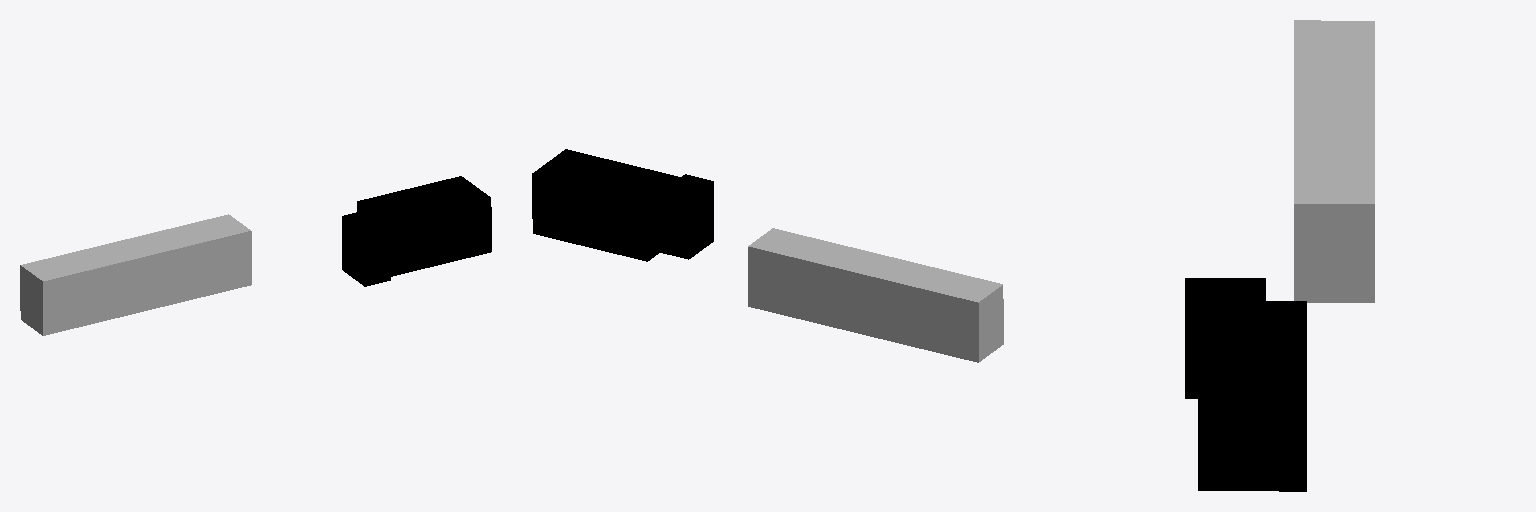
The robot description file, URDF, robot "balance":
<?xml version="1.0"?>
  <!-- The urdf model of eduexo robot arm, assign xyz movement on joint, assign rotation of link on link -->
<robot name="balance">
  <material name="omni/Blue">
    <color rgba="0 0 0.8 1"/>
  </material>
  <material name="omni/Red">
    <color rgba="1 0 0 1"/>
  </material>
  <material name="omni/Green">
    <color rgba="0 1 0 1"/>
  </material>
  <material name="omni/Yellow">
    <color rgba="1 1 0 1"/>
  </material>
  <material name="omni/LightGrey">
    <color rgba="0.6 0.6 0.6 1"/>
  </material>
  <material name="omni/DarkGrey">
    <color rgba="0.4 0.4 0.4 1"/>
  </material>
  <material name="omni/Black">
    <color rgba="0 0 0 1"/>
  </material>
  <material name="omni/Silver">
    <color rgba="0.75 0.75 0.75 1"/>
  </material>

  <link name="base_link">
    <inertial>
      <origin rpy="0 0 0" xyz="0 0 0 "/>
      <mass value="0"/>
      <inertia ixx="89.282" ixy="-0.47721" ixz="0.85562" iyy="107.51" iyz="0.0067576" izz="172.02"/>
    </inertial>
  </link>

  <joint name="base_motor" type="fixed">
    <parent link="base_link"/>
    <child link="motor"/>
    <origin rpy="1.57 0 0" xyz="-5 0 30"/>
    <axis xyz="1 0 0"/>
  </joint>
  <link name="motor">
    <visual>
      <origin rpy="0 0 0" xyz="0 0 0"/>
      <geometry>
        <box size="40 20 20"/>
      </geometry>
      <material name="omni/Black"/>
    </visual>
  </link>

  <joint name="motor_adapter" type="fixed">
    <parent link="motor"/>
    <child link="motor_adapter"/>
    <origin rpy="0 0 0" xyz="0 -7 -30"/>
    <axis xyz="1 0 0"/>
  </joint>
  <link name="motor_adapter">
    <visual>
      <origin rpy="0 0 0" xyz="0 0 0"/>
      <geometry>
        <mesh filename="urdf/EduExo_STL_files/MotorAdapter.stl"/>
      </geometry>
      <material name="omni/LightGrey"/>
    </visual>
  </link>

  <joint name="motor_extendJoint" type="fixed">
    <parent link="motor"/>
    <child link="motor_extend"/>
    <origin rpy="0 0 0" xyz="-25 0 5"/>
    <axis xyz="1 0 0"/>
  </joint>
  <link name="motor_extend">
    <visual>
      <origin rpy="0 0 0" xyz="0 0 0"/>
      <geometry>
        <box size="10 20 15"/>
      </geometry>
      <material name="omni/Black"/>
    </visual>
  </link>

  <joint name="adapter_upper_joint" type="fixed">
    <parent link="motor_adapter"/>
    <child link="upper_arm"/>
    <origin rpy="0 0 0" xyz="25 12 0"/>
    <axis xyz="1 0 0"/>
  </joint>
  <link name="upper_arm">
    <visual>
      <origin rpy="1.57 -1.57 1.57" xyz="0 0 0"/>
      <geometry>
        <mesh filename="urdf/EduExo_STL_files/Upper_Arm_Segment.stl"/>
      </geometry>
        <material name="omni/LightGrey"/>
    </visual>
  </link>

  <!-- <joint name="arm_cuff0" type="fixed">
    <parent link="upper_arm"/>
    <child link="upper_cuff0"/>
    <origin rpy="0 0 0" xyz="30 5 -5"/>
    <axis xyz="1 0 0"/>
  </joint>
  <link name="upper_cuff0">
    <visual>
      <origin rpy="1.57 -1.57 1.57" xyz="0 0 0"/>
      <geometry>
        <mesh filename="urdf/EduExo_STL_files/EduExoCuffs/Upper_arm_Cuff_70.stl"/>
      </geometry>
        <material name="omni/LightGrey"/>
    </visual>
  </link> -->

<!-- 
  <joint name="arm_cuff1" type="fixed">
    <parent link="upper_arm"/>
    <child link="upper_cuff1"/>
    <origin rpy="0 0 0" xyz="120 5 -5"/>
    <axis xyz="1 0 0"/>
  </joint>
  <link name="upper_cuff1">
    <visual>
      <origin rpy="1.57 -1.57 1.57" xyz="0 0 0"/>
      <geometry>
        <mesh filename="urdf/EduExo_STL_files/EduExoCuffs/Upper_arm_Cuff_70.stl"/>
      </geometry>
        <material name="omni/LightGrey"/>
    </visual>
  </link> -->

  <joint name="motor_sensorAdapter" type="revolute">
    <parent link="motor"/>
    <child link="sensor_adapter"/>
    <dynamics damping="3.0" friction="0.3"/>
    <limit effort="30.0" lower="-3.1415926535" upper="3.1415926535" velocity="5.0"/>
    <origin rpy="0 0 0" xyz="0 0 -10"/>
    <axis xyz="0 0 1"/>
  </joint>
  <link name="sensor_adapter">
    <visual>
      <origin rpy="3.14 0 0" xyz="0 0 0"/>
      <geometry>
        <mesh filename="urdf/EduExo_STL_files/Interface_Motor_Sensor.stl"/>
      </geometry>
      <material name="omni/LightGrey"/>
    </visual>
  </link>

  <joint name="sensorAdapter_sensor" type="fixed">
    <parent link="sensor_adapter"/>
    <child link="sensor"/>
    <origin rpy="0 0 0" xyz="-102 0 -5"/>
    <axis xyz="1 0 0"/>
  </joint>
  <link name="sensor">
    <visual>
      <origin rpy="0 0 0" xyz="0 0 0"/>
      <geometry>
        <box size="80 20 15"/>
      </geometry>
      <material name="omni/Silver"/>
    </visual>
  </link>

  <joint name="sensor_lowerArm" type="fixed">
    <parent link="sensor"/>
    <child link="lower_arm"/>
    <origin rpy="0 0 0" xyz="0 0 0"/>
    <axis xyz="1 0 0"/>
  </joint>
  <link name="lower_arm">
    <visual>
      <origin rpy="3.14 0 0" xyz="10 0 5"/>
      <geometry>
        <mesh filename="urdf/EduExo_STL_files/Lower_Arm_Segment.stl"/>
      </geometry>
      <material name="omni/LightGrey"/>
    </visual>
  </link>

</robot>

--- What the picture shows (computed from the rendered views, not written in the file) ---
3 views of the same robot in one strip: view 1: azimuth 30°, elevation 25°; view 2: azimuth 150°, elevation 25°; view 3: azimuth 270°, elevation 25° (orthographic).
Robot: balance — 8 links, 7 joints (1 revolute, 6 fixed); root link base_link; default pose: all joints at 0.
Links seen in each view (by area): view 1: sensor, motor, motor_extend; view 2: sensor, motor, motor_extend; view 3: sensor, motor, motor_extend.
Link boxes in pixels (x1,y1,x2,y2): sensor: (20,214,251,335); motor: (357,176,491,276); motor_extend: (342,210,390,286); sensor: (748,228,1003,362); motor: (532,149,680,261); motor_extend: (660,174,713,259); sensor: (1294,20,1374,302); motor: (1198,301,1306,491); motor_extend: (1185,278,1265,398).
Size in the robot's own frame: 162 by 35.02 by 20.03 metres.
Meshes: 4 distinct files referenced, 0 mesh visuals loaded (none loaded); not drawn: 4 (reference not matched to a file when rendering).